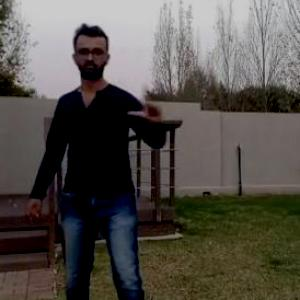land_hand: (123, 78, 168, 128)
